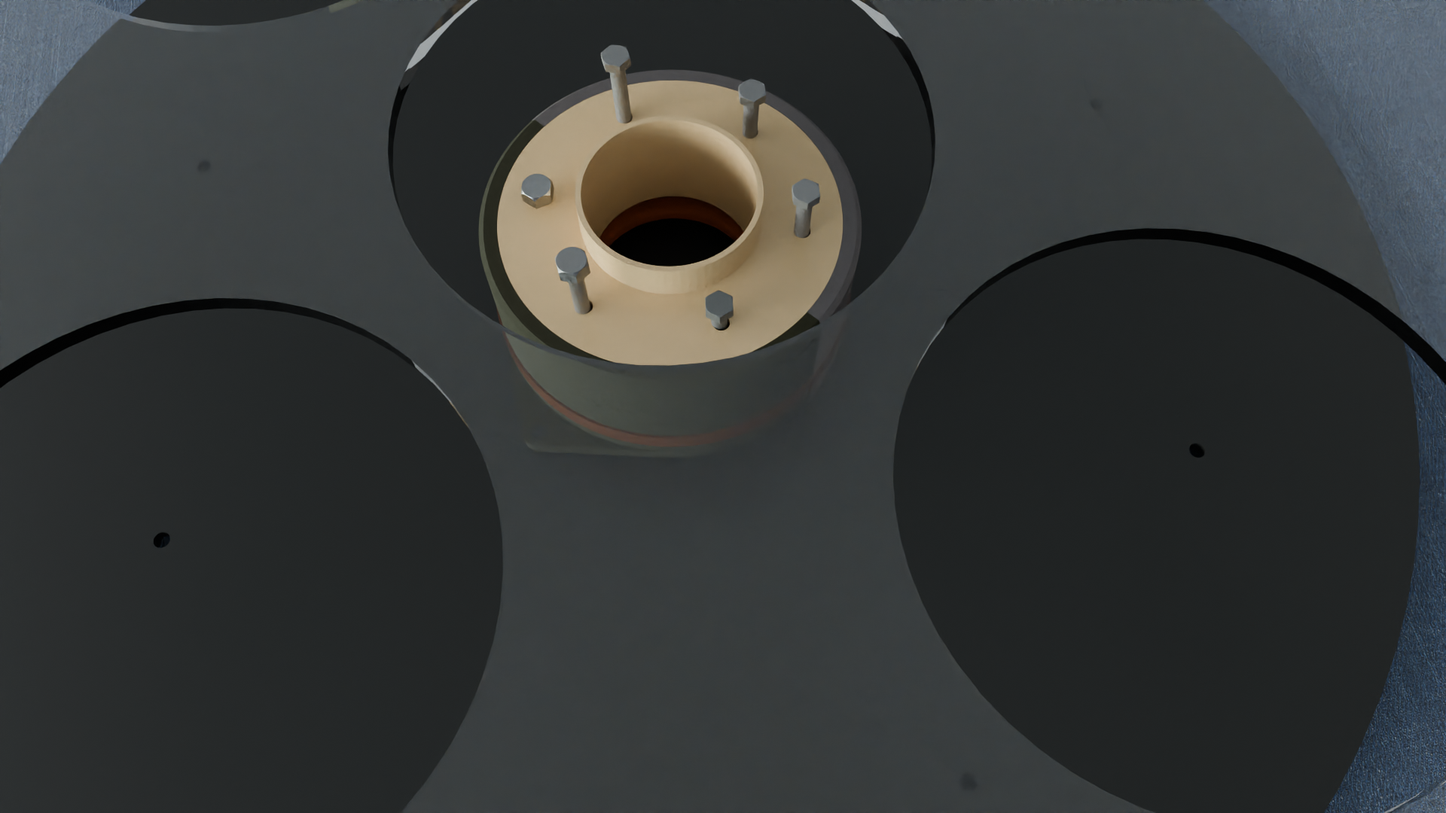bolt: (554, 247, 589, 277), (521, 174, 552, 202), (705, 290, 734, 318), (792, 178, 820, 204), (601, 44, 630, 67), (739, 78, 766, 102)
